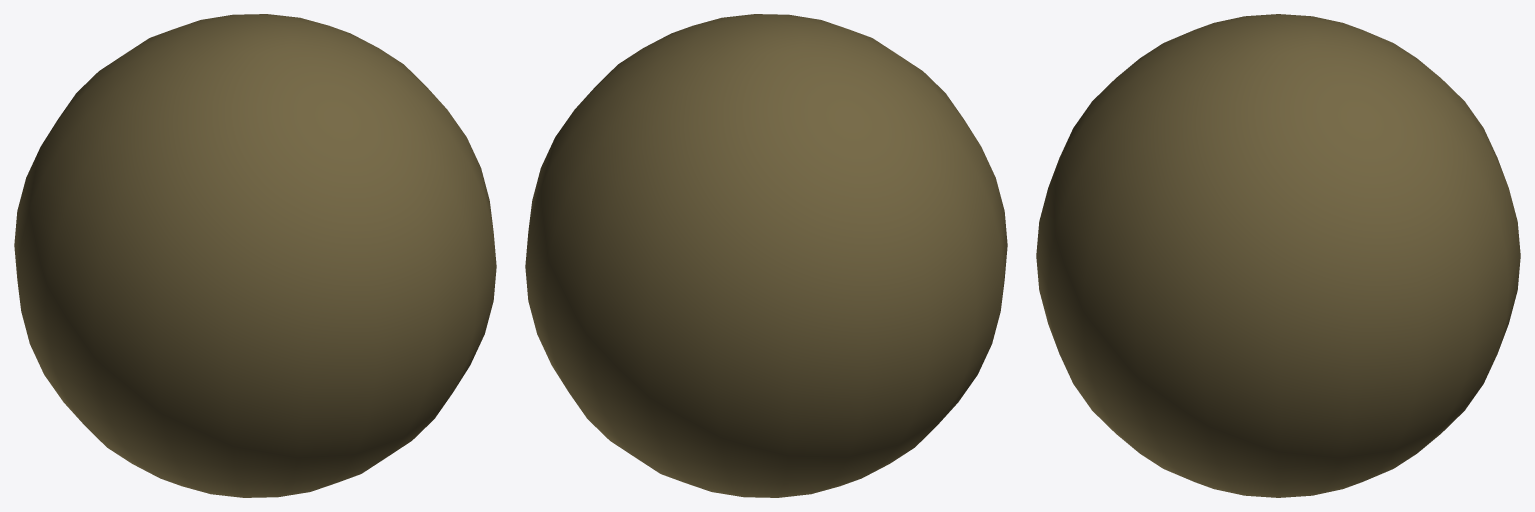
File: Walls_Whole.fbx
3 views of the same model, side by side, from view 1: azimuth 30°, elevation 25°; view 2: azimuth 150°, elevation 25°; view 3: azimuth 270°, elevation 25° (orthographic).
Visible parts, largest first — view 1: Walls_Whole; view 2: Walls_Whole; view 3: Walls_Whole.
Part boxes in pixels (x1,y1,x2,y2): Walls_Whole: [14, 14, 496, 497]; Walls_Whole: [525, 14, 1007, 497]; Walls_Whole: [1036, 14, 1520, 497].
Size of the model in its own units: 101 by 101 by 101.
